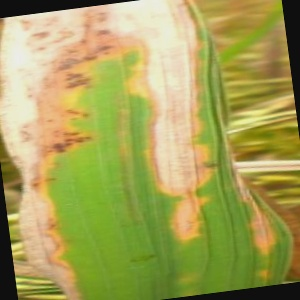Leaf_Blast: (3, 6, 220, 300)
